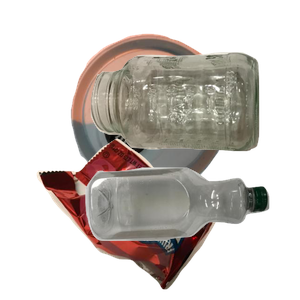glass: (88, 50, 300, 194)
metal: (68, 31, 288, 211)
plastic: (83, 165, 300, 300)
trash: (34, 136, 253, 300)
